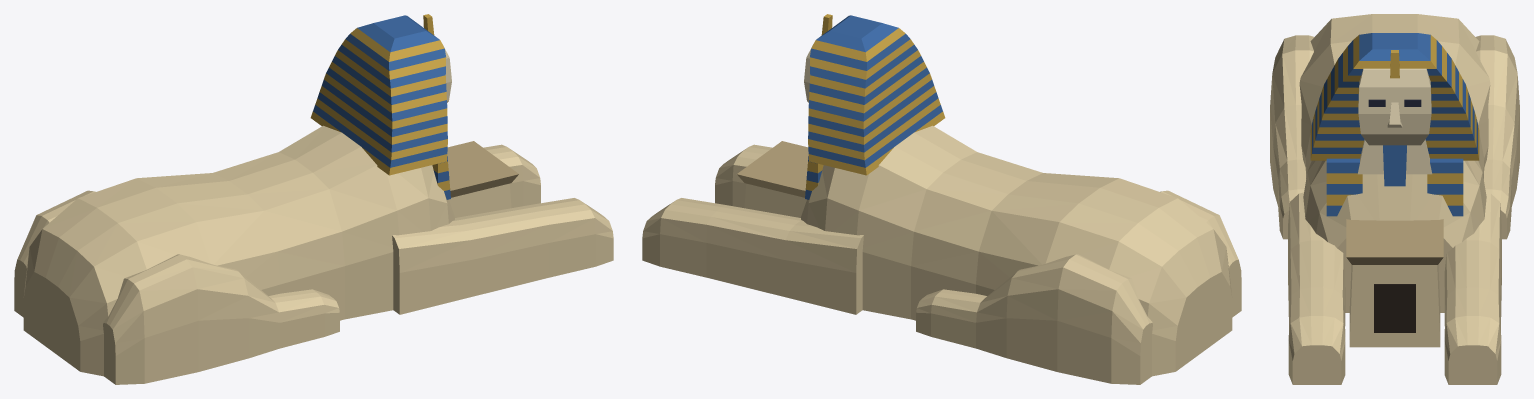
The model's file is luxor_sphinx.glb.
3 views of the same model, side by side, from view 1: azimuth 30°, elevation 25°; view 2: azimuth 150°, elevation 25°; view 3: azimuth 270°, elevation 25° (orthographic). The views are drawn at different scales.
Visible parts, largest first — view 1: Luxor_Sphinx; view 2: Luxor_Sphinx; view 3: Luxor_Sphinx.
Part boxes in pixels (<box>): Luxor_Sphinx: <box>14,14,613,384</box>; Luxor_Sphinx: <box>642,14,1241,384</box>; Luxor_Sphinx: <box>1270,14,1519,384</box>.
Bounding box in the file's own units: 78.5 × 35.5 × 30.8.
